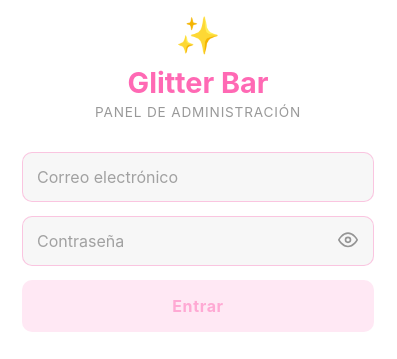
Scenario: LoginPage › shows loading state during sign-in
Type "admin@test.com" into the field with placeholder "Correo electrónico" at (198, 176), box [22,152,374,202]
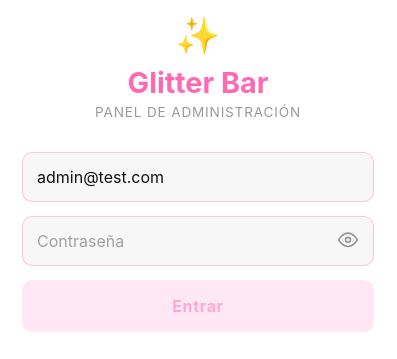
Type "password123" into the password field with placeholder "Contraseña" at (198, 240), box [22,216,374,266]
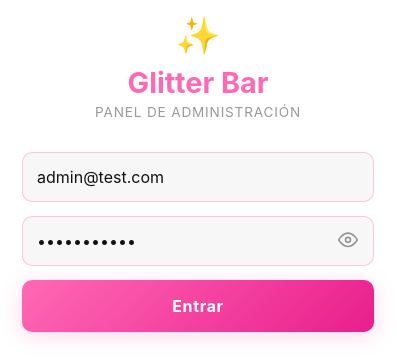
Click the button "Entrar" at (198, 306), box [22,280,374,332]
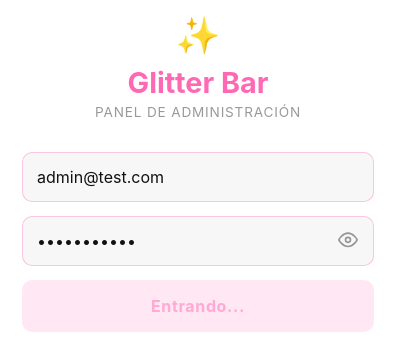
Now the button "Entrando..." is disabled, box [22,280,374,332]
